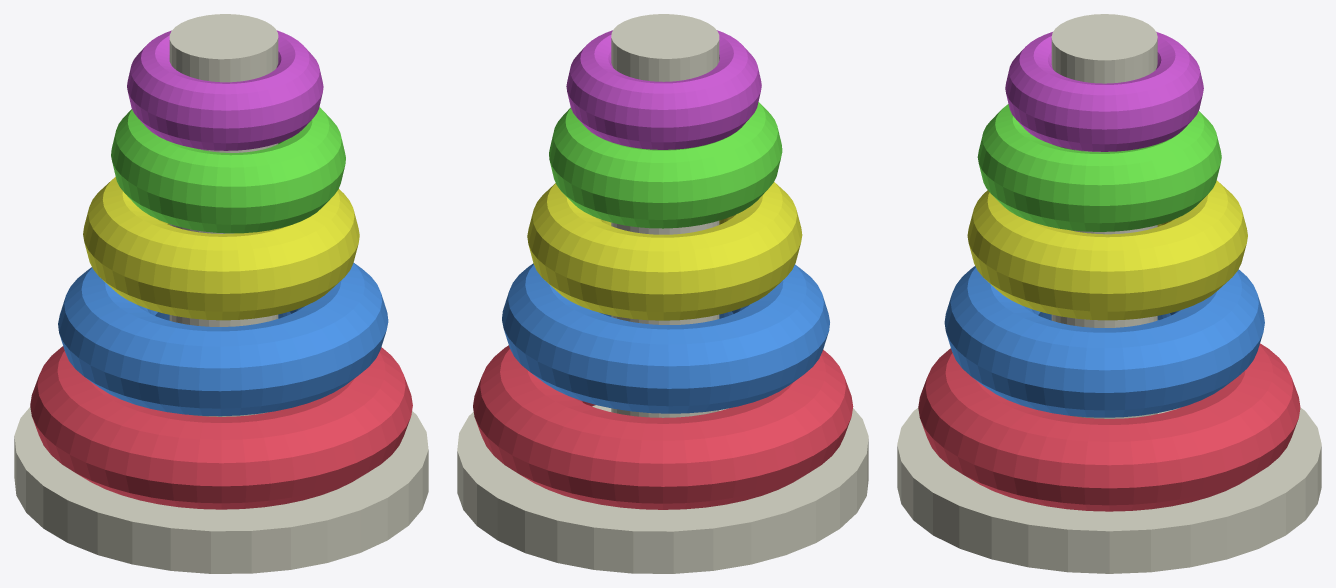
File: ring-stack.fbx
3 views of the same model, side by side, from view 1: azimuth 30°, elevation 25°; view 2: azimuth 150°, elevation 25°; view 3: azimuth 270°, elevation 25° (orthographic).
Visible parts, largest first — view 1: Torus, Torus.001, Cylinder.001, Torus.002, Torus.003, Torus.004, Cylinder; view 2: Torus, Torus.001, Cylinder.001, Torus.002, Torus.003, Torus.004, Cylinder; view 3: Torus, Cylinder.001, Torus.001, Torus.002, Torus.003, Torus.004, Cylinder.
Part boxes in pixels (x1,y1,x2,y2): Torus: (30,346,412,509); Torus.001: (58,263,388,416); Cylinder.001: (14,407,428,573); Torus.002: (83,177,359,320); Torus.003: (111,107,345,233); Torus.004: (127,30,323,150); Cylinder: (169,14,278,416); Torus: (473,345,853,509); Torus.001: (502,263,829,413); Cylinder.001: (457,405,868,573); Torus.002: (527,182,802,320); Torus.003: (549,102,782,228); Torus.004: (566,30,761,149); Cylinder: (611,14,719,417); Torus: (918,343,1300,511); Cylinder.001: (897,407,1321,573); Torus.001: (944,266,1264,417); Torus.002: (967,180,1247,320); Torus.003: (977,104,1221,231); Torus.004: (1005,31,1203,151); Cylinder: (1051,14,1157,418).
Bounding box in the file's own units: 521 × 630 × 539.
